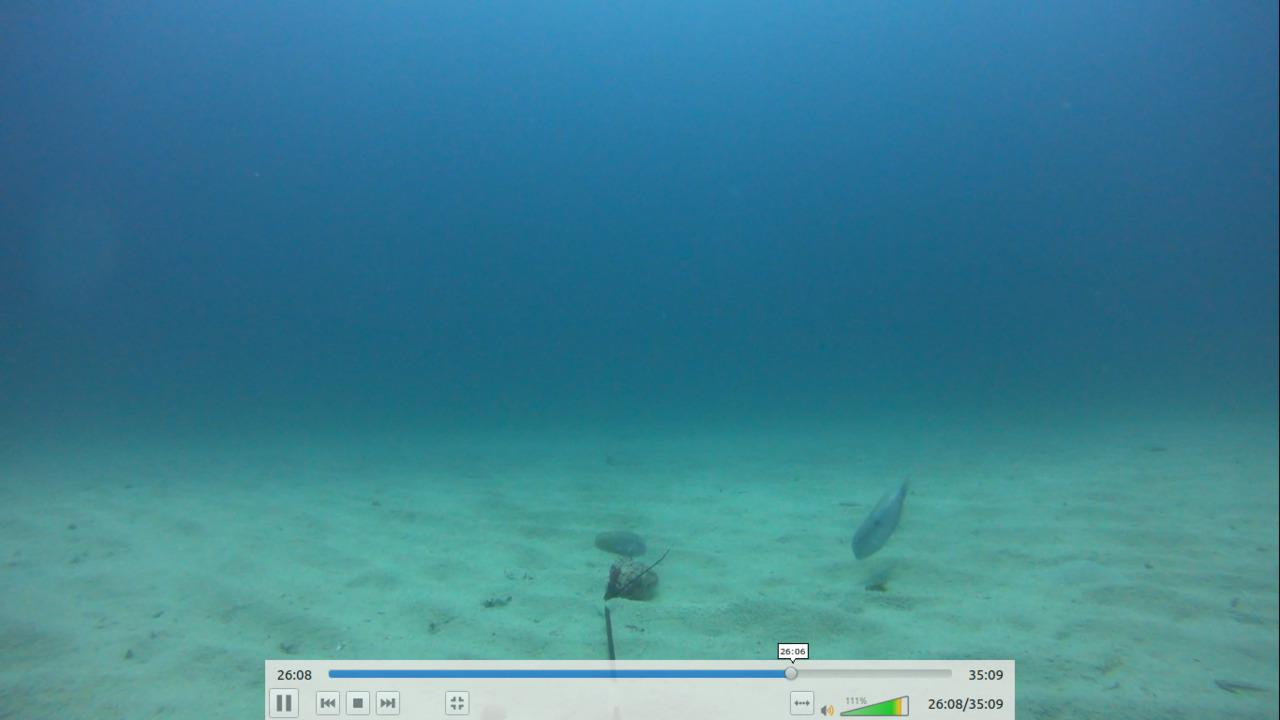raor: (851, 477, 916, 566), (581, 520, 654, 559)
